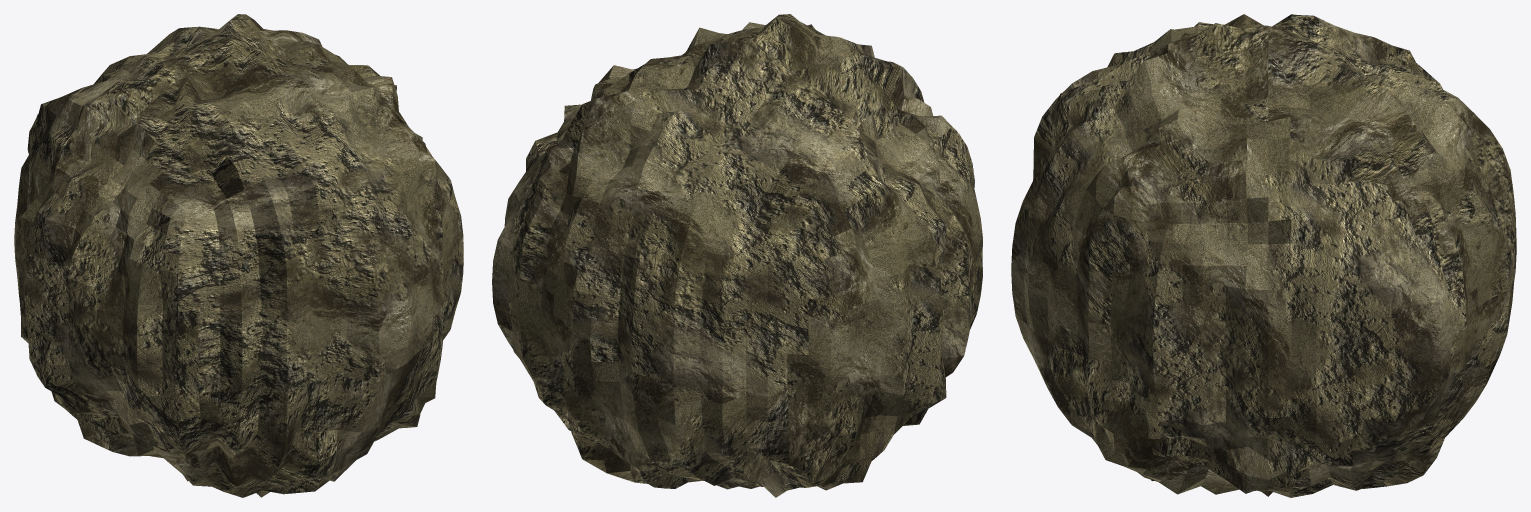
Rendered from asteroid15.obj.
3 views of the same model, side by side, from view 1: azimuth 30°, elevation 25°; view 2: azimuth 150°, elevation 25°; view 3: azimuth 270°, elevation 25° (orthographic). The views are drawn at different scales.
Parts seen in each view (by area): view 1: Cube_Cube.002; view 2: Cube_Cube.002; view 3: Cube_Cube.002.
Part boxes in pixels (bbox=[...]): Cube_Cube.002: bbox=[14, 14, 463, 497]; Cube_Cube.002: bbox=[492, 14, 982, 497]; Cube_Cube.002: bbox=[1011, 14, 1516, 497].
Size of the model in its own units: 1.74 by 1.88 by 1.83.
